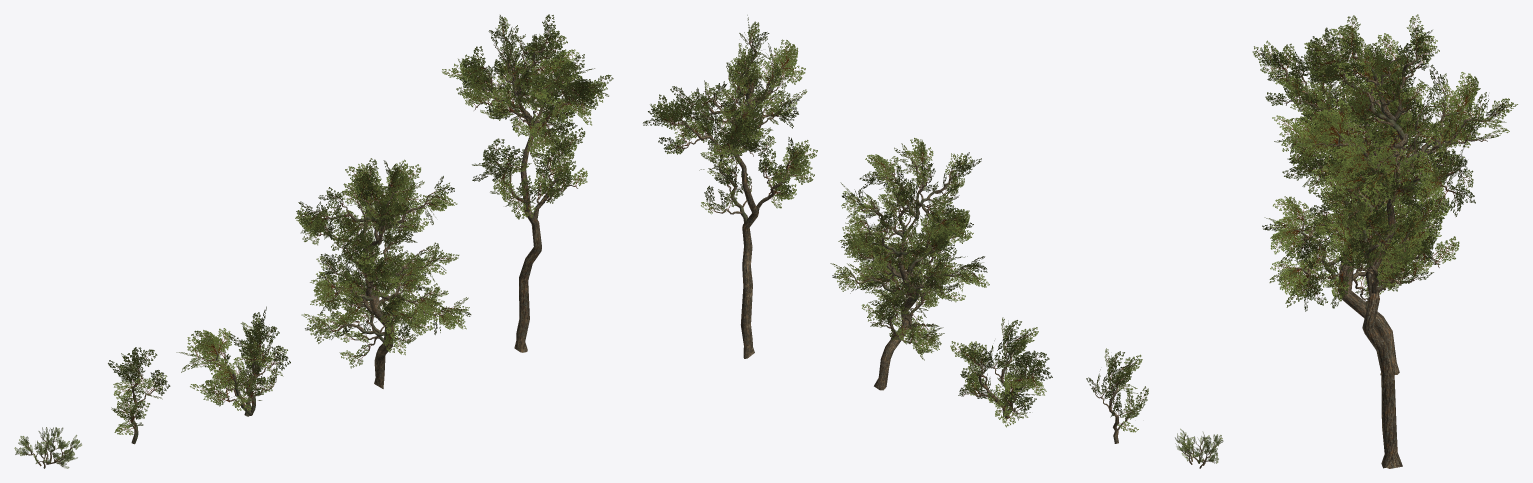
The picture shows the model from 3 angles, left to right: view 1: azimuth 30°, elevation 25°; view 2: azimuth 150°, elevation 25°; view 3: azimuth 270°, elevation 25°; orthographic projection. The views are drawn at different scales.
Visible parts, largest first — view 1: Baum_krumm_1; view 2: Baum_krumm_1; view 3: Baum_krumm_1.
Part boxes in pixels (x1,y1,x2,y2): Baum_krumm_1: (14, 14, 613, 468); Baum_krumm_1: (643, 15, 1223, 468); Baum_krumm_1: (1252, 14, 1517, 468).
Size of the model in its own units: 1165 by 653 by 341.
4 materials, 4 textured.
